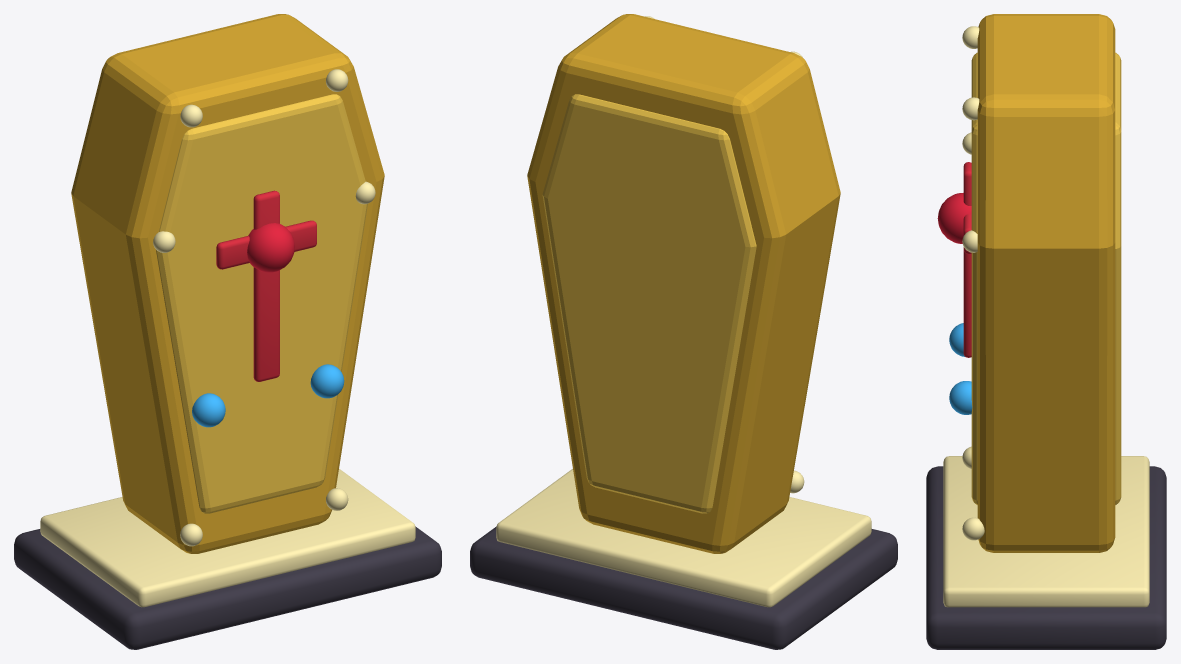
File: CoffinGold.fbx
The picture shows the model from 3 angles, left to right: view 1: azimuth 30°, elevation 25°; view 2: azimuth 150°, elevation 25°; view 3: azimuth 270°, elevation 25°; orthographic projection.
Parts seen in each view (by area): view 1: CoffinGold; view 2: CoffinGold; view 3: CoffinGold.
Boxes of the visible parts, x1,y1,x2,y2 form: CoffinGold: (14,14,441,649); CoffinGold: (470,14,897,649); CoffinGold: (926,14,1166,649).
Bounding box in the file's own units: 6.4 × 10.05 × 4.2.
Materials: 1 (1 with a texture image).
